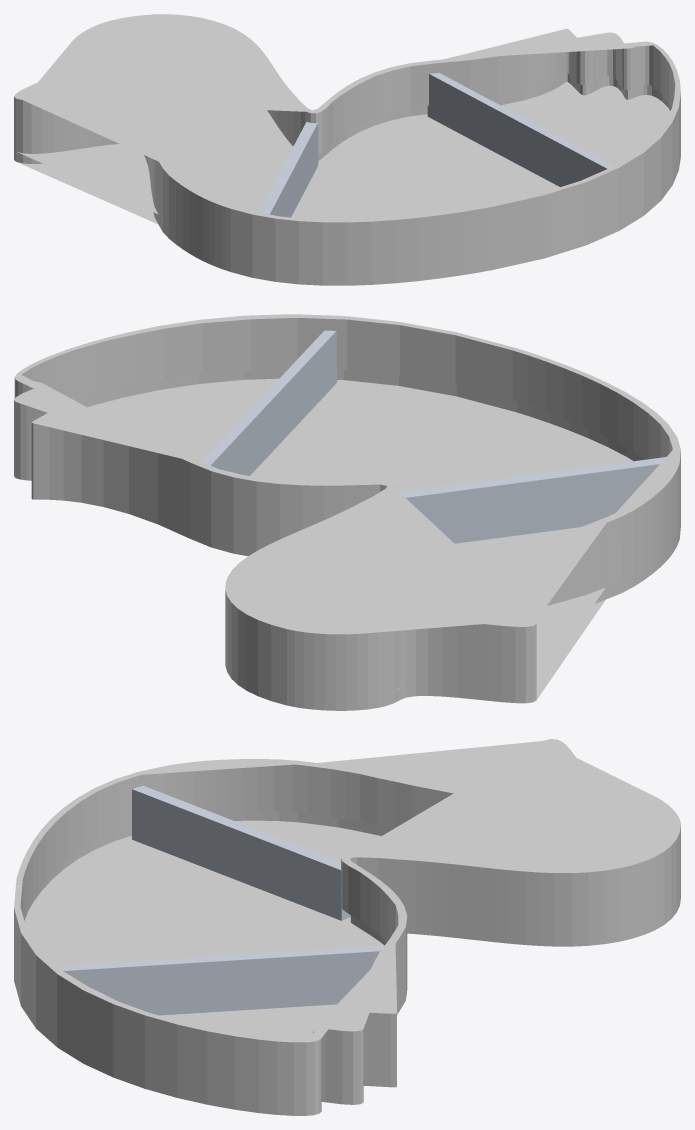
Rendered from Duck1 stencil _separate.fbx.
The picture shows the model from 3 angles, top to bottom: view 1: azimuth 30°, elevation 25°; view 2: azimuth 150°, elevation 25°; view 3: azimuth 270°, elevation 25°; orthographic projection. The views are drawn at different scales.
Visible parts, largest first — view 1: Base, Duck part 1, Duck part 2, Duck part 3, Part, Part.001; view 2: Duck part 1, Base, Duck part 2, Duck part 3, Part.001, Part; view 3: Duck part 1, Base, Duck part 3, Part, Duck part 2, Part.001.
Boxes of the visible parts, box(x1,y1,x2,y2) form: Base: box(14, 82, 680, 285); Duck part 1: box(14, 14, 307, 269); Duck part 2: box(253, 59, 620, 277); Duck part 3: box(444, 28, 680, 222); Part: box(427, 73, 613, 186); Part.001: box(259, 121, 318, 217); Duck part 1: box(225, 449, 680, 701); Base: box(14, 378, 680, 710); Duck part 2: box(181, 316, 680, 546); Duck part 3: box(14, 314, 341, 522); Part.001: box(400, 457, 665, 543); Part: box(202, 330, 337, 475); Duck part 1: box(137, 739, 680, 937); Base: box(14, 820, 680, 1115); Duck part 3: box(37, 943, 396, 1106); Part: box(58, 946, 383, 1015); Duck part 2: box(14, 772, 407, 1019); Part.001: box(132, 786, 350, 920).
Bounding box in the file's own units: 825 × 93.09 × 766.
1 material, 1 textured.
